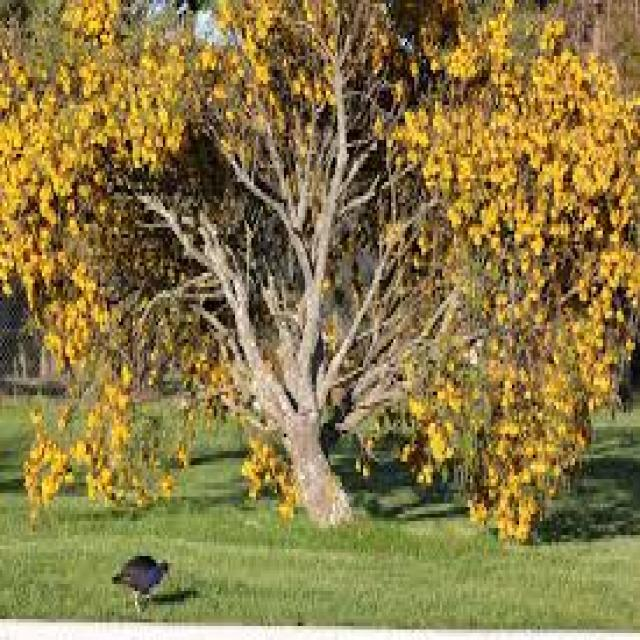Kowhai: (0, 4, 640, 536)
